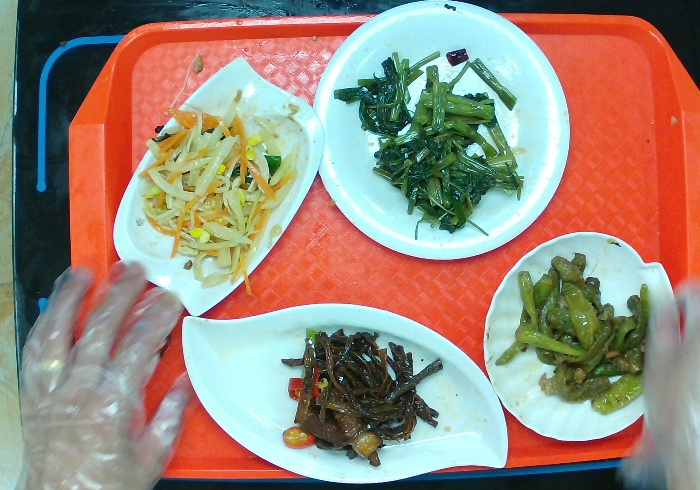RJxy-Bei_Ke_Wan: (476, 227, 686, 452)
RJxy-Jian_Jiao_Fang_Die: (108, 54, 327, 327)
RJxy-Jian_Jiao_Pan: (174, 297, 514, 488)
RJxy-Yuan_Pan: (306, 1, 579, 263)
